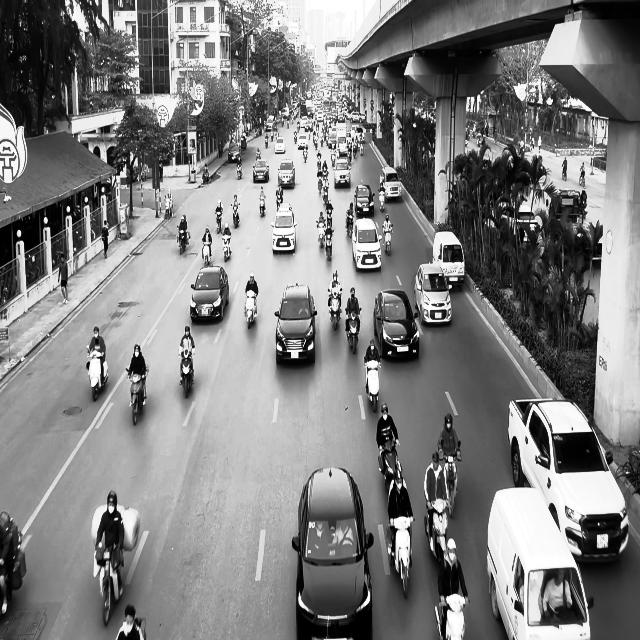car: (292, 466, 374, 639), (274, 283, 317, 365), (373, 289, 420, 360), (414, 262, 452, 326), (190, 265, 229, 322), (352, 217, 382, 272), (270, 202, 297, 254), (354, 184, 375, 216), (278, 160, 296, 189), (252, 160, 269, 182), (228, 144, 241, 162)
motorbike: (94, 541, 124, 626), (387, 516, 413, 598), (424, 497, 450, 565), (438, 442, 461, 517), (125, 365, 149, 425), (378, 435, 402, 491), (86, 347, 108, 401), (364, 357, 381, 412), (179, 350, 194, 398), (345, 309, 361, 354), (328, 290, 341, 330), (244, 289, 257, 328), (382, 226, 393, 256), (222, 232, 232, 261), (202, 239, 212, 266), (231, 203, 240, 228), (215, 210, 223, 233), (202, 166, 210, 184), (259, 196, 266, 216), (236, 161, 242, 180), (579, 170, 585, 187)
